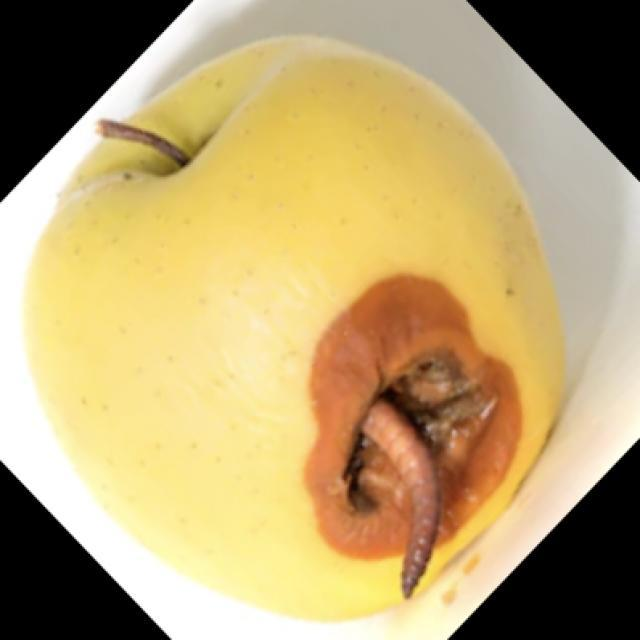Rotten: (60, 65, 560, 570)
